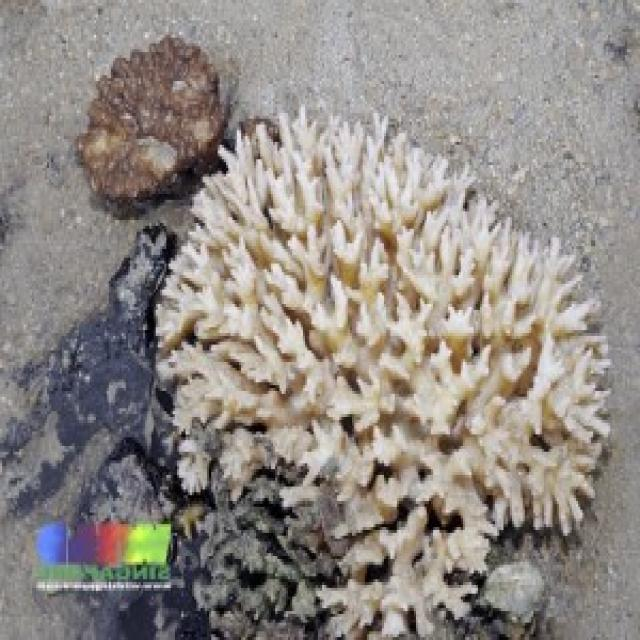Bleached: (153, 110, 608, 553)
Healthy: (78, 37, 224, 201)
